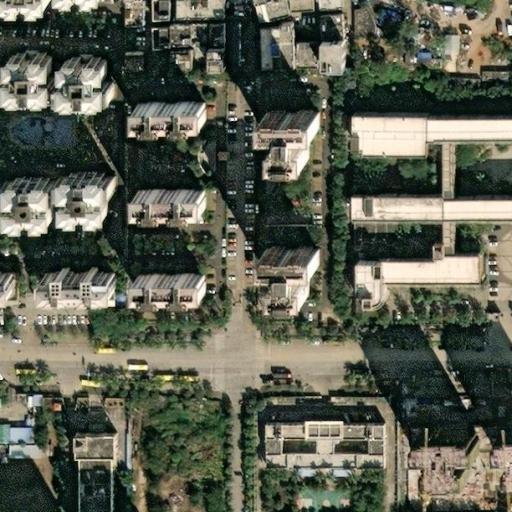building: (266, 425, 382, 471), (364, 199, 512, 225), (386, 260, 491, 294), (412, 429, 483, 477), (346, 109, 421, 150), (143, 24, 233, 54), (255, 111, 310, 160), (2, 113, 78, 148), (260, 244, 312, 294), (10, 181, 61, 229), (57, 58, 106, 105), (438, 116, 512, 147), (67, 177, 115, 222), (7, 57, 54, 101), (44, 273, 119, 298), (137, 188, 207, 211), (138, 275, 205, 299), (144, 102, 214, 124), (375, 266, 405, 315), (269, 27, 300, 73), (74, 436, 121, 466), (446, 146, 467, 201), (332, 43, 360, 80), (317, 15, 349, 47), (76, 464, 112, 486), (77, 484, 113, 506), (446, 224, 467, 261), (419, 402, 464, 419), (298, 43, 321, 72), (258, 29, 272, 74), (171, 52, 200, 73), (479, 63, 511, 80), (215, 51, 233, 79), (2, 426, 30, 442), (463, 404, 499, 416), (78, 503, 113, 512), (126, 56, 144, 72), (44, 404, 58, 413), (463, 399, 477, 407), (165, 153, 183, 159), (25, 396, 35, 406), (25, 406, 35, 415), (208, 152, 219, 160), (414, 419, 426, 426), (471, 415, 479, 424), (18, 396, 25, 406), (461, 416, 467, 425), (19, 419, 24, 426)
